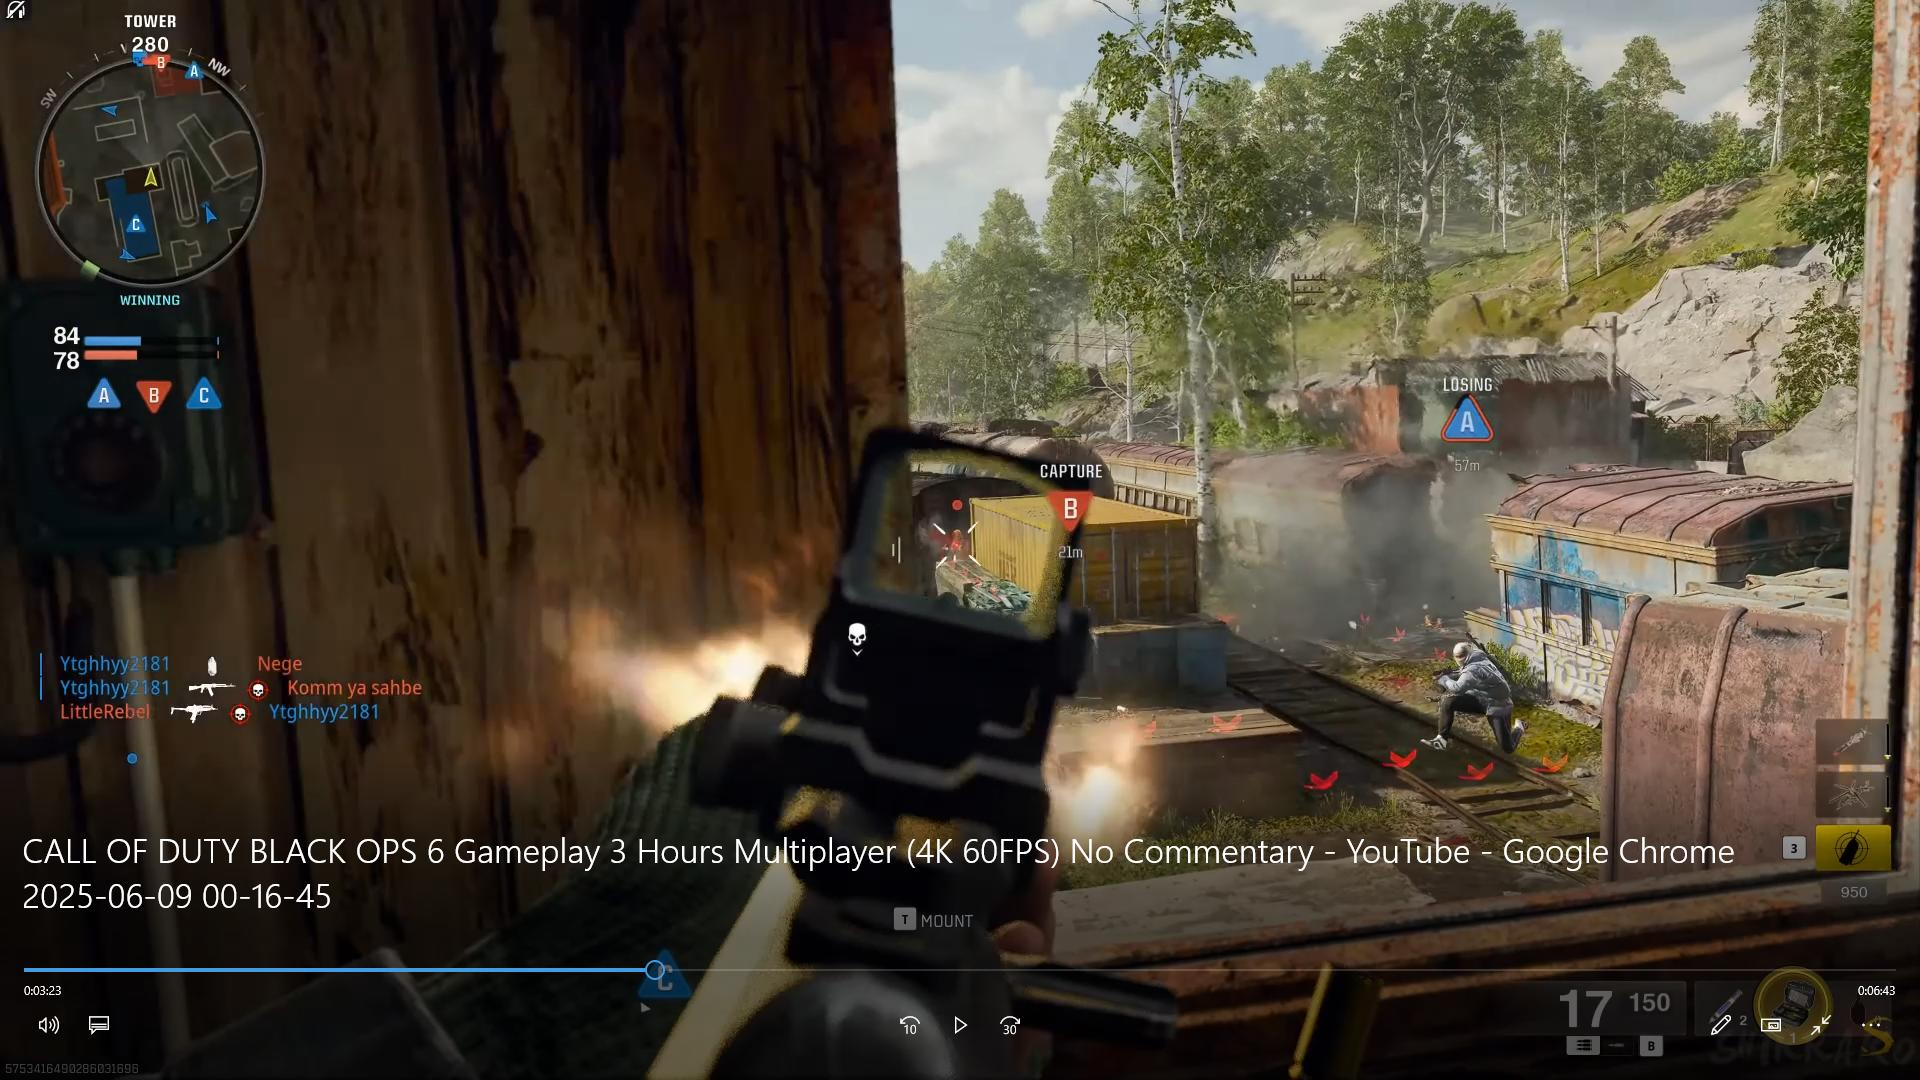Enemy: (1420, 633, 1528, 760)
